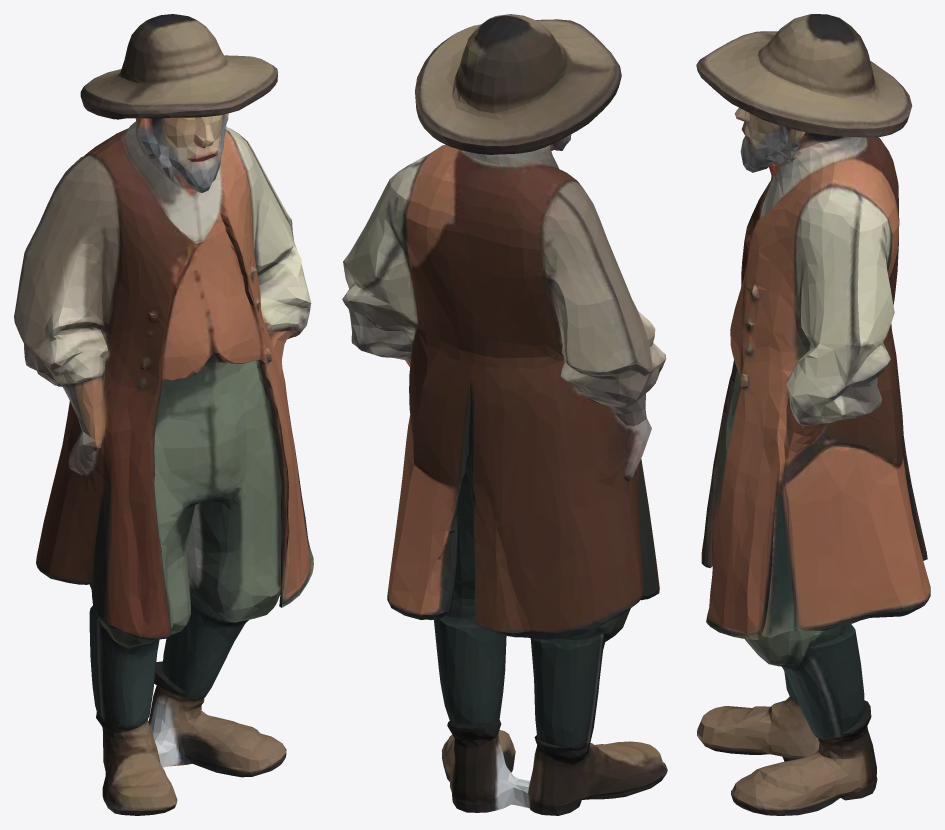
The model's file is anime_industrial_commoner.glb.
3 renders of one model, left to right at view 1: azimuth 30°, elevation 25°; view 2: azimuth 150°, elevation 25°; view 3: azimuth 270°, elevation 25°, orthographic. The views are drawn at different scales.
Parts seen in each view (by area): view 1: geometry_0; view 2: geometry_0; view 3: geometry_0.
Boxes of the visible parts, box(x1,y1,x2,y2) form: geometry_0: box(14, 14, 313, 815); geometry_0: box(342, 14, 667, 815); geometry_0: box(696, 14, 930, 815).
Size of the model in its own units: 0.3956 by 1 by 0.2788.
Materials: 1 (1 with a texture image).
